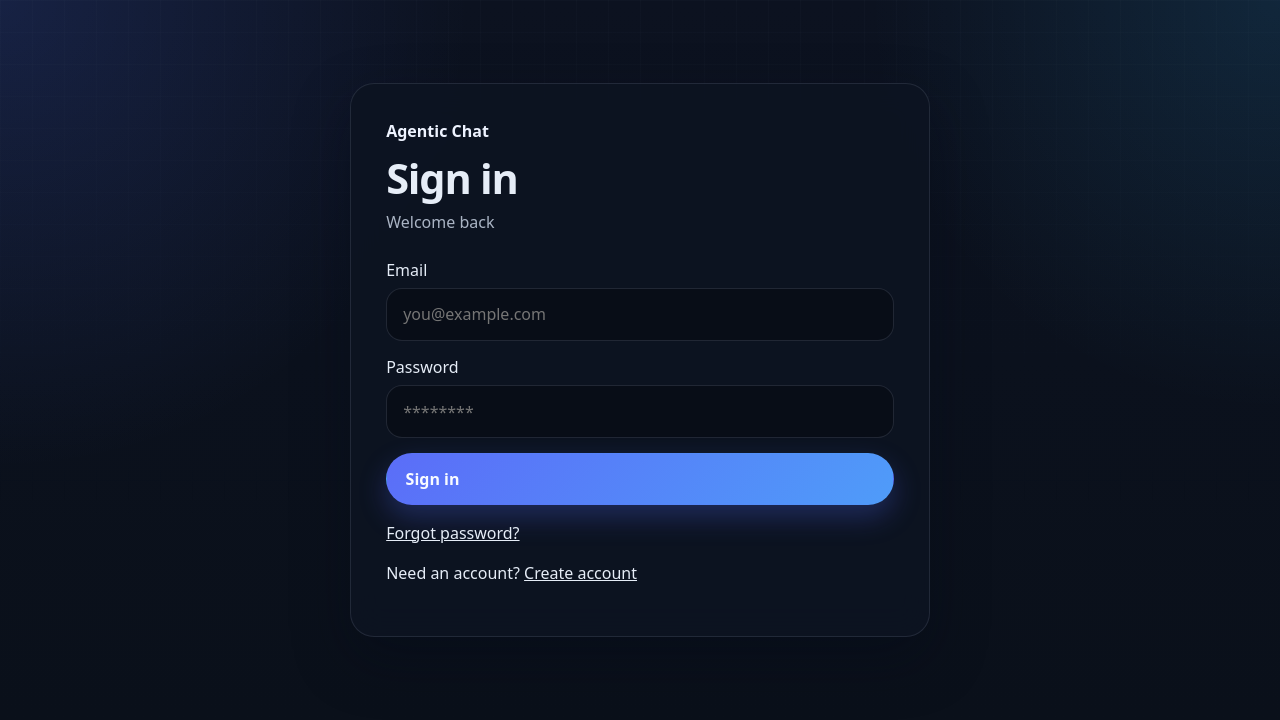
it: App routes › shows a friendly validation message when sign-in input is invalid
Expected: the heading "Sign in" is shown, [386, 150, 518, 206]
Type "preview@agentic.chat" into the field labelled "Email". click: (640, 314)
box: [386, 288, 894, 341]
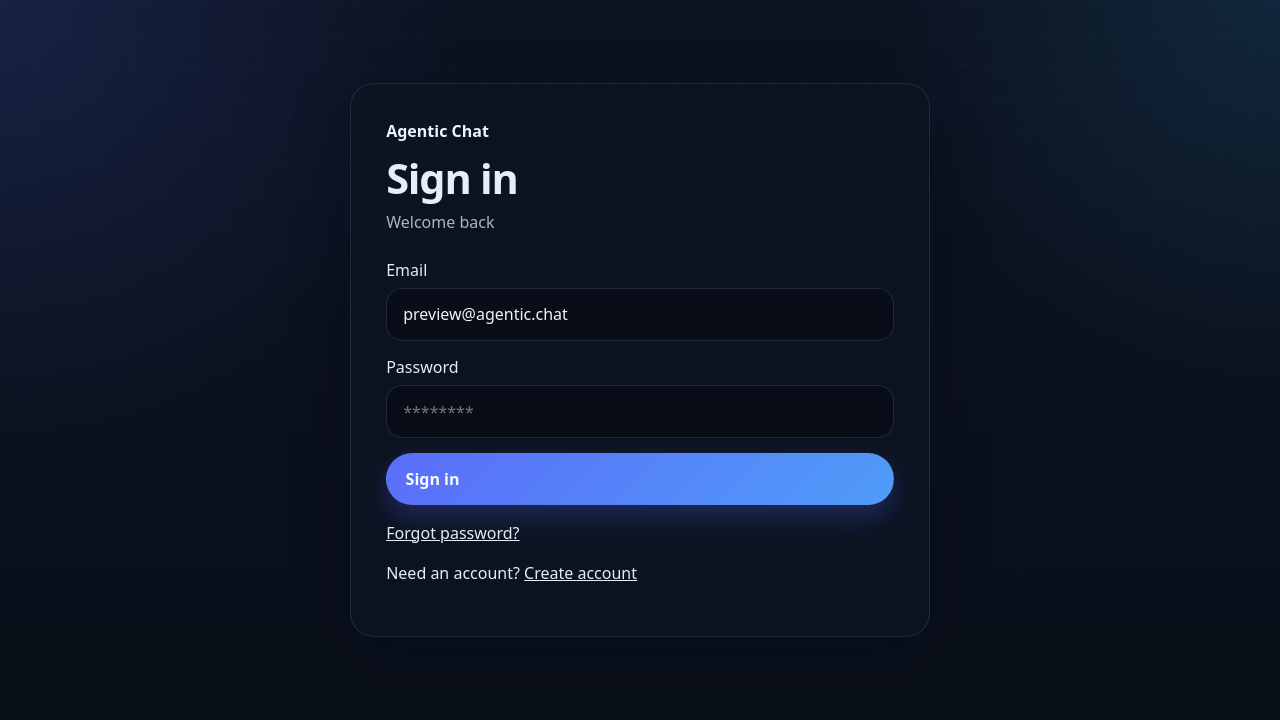
Type "shortpwd" into the password field labelled "Password". click: (640, 412)
box: [386, 385, 894, 438]
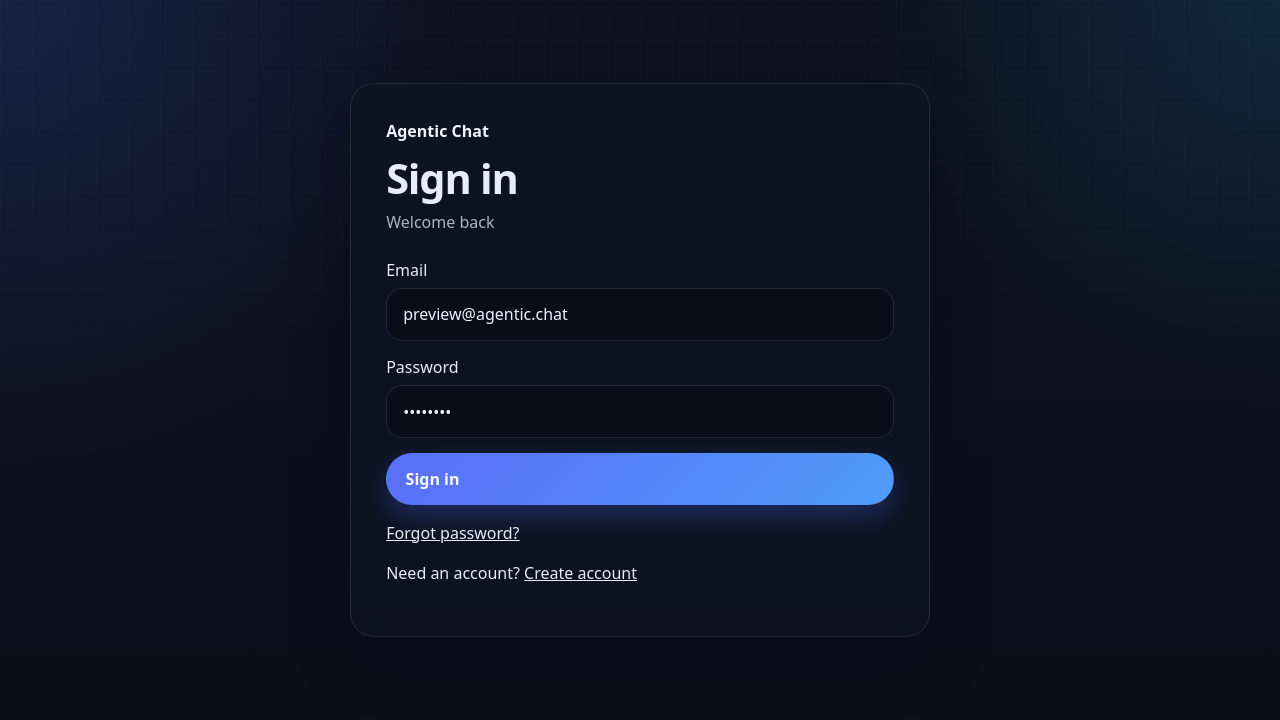
Click the button "Sign in". click: (433, 479)
box: [386, 453, 894, 505]
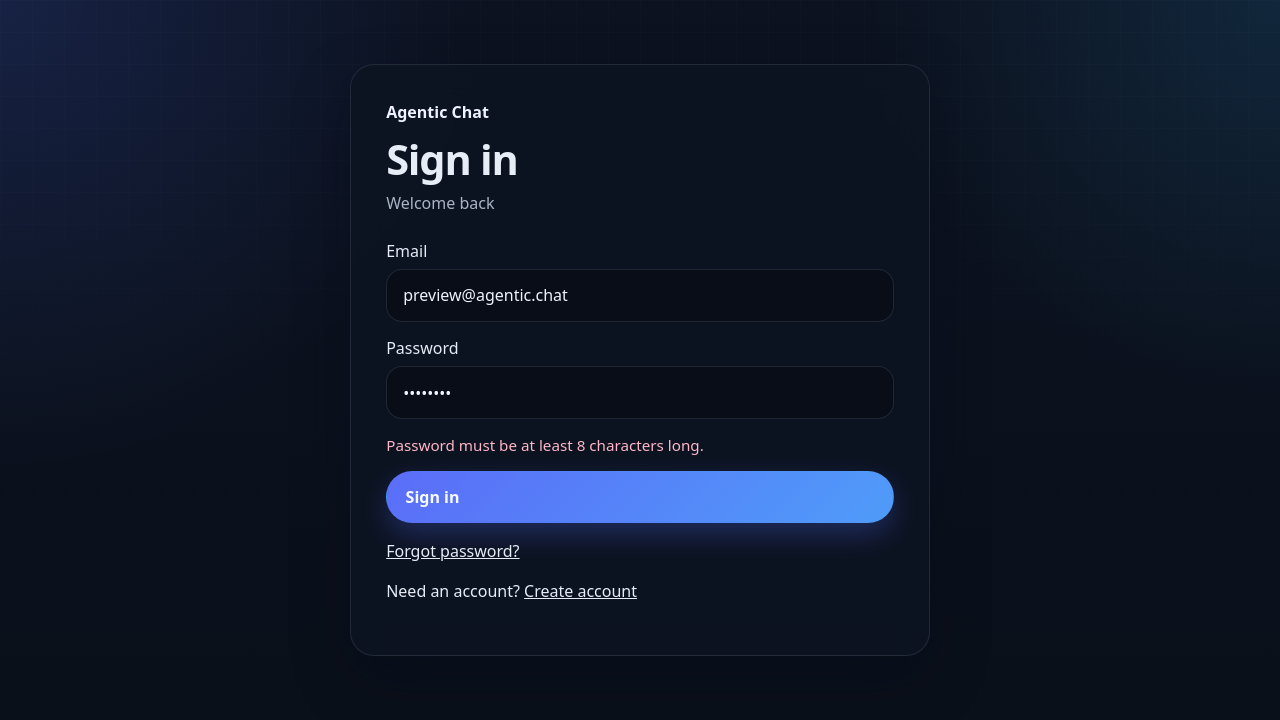
Now the text "Password must be at least 8 characters long." is shown, box [386, 435, 704, 455]
